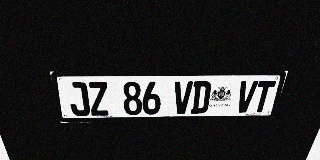6: (142, 81, 161, 115)
8: (122, 81, 142, 115)
D: (190, 81, 212, 114)
J: (66, 82, 91, 116)
T: (251, 80, 276, 112)
V: (234, 81, 258, 113), (173, 81, 193, 114)
Z: (87, 82, 110, 116)
